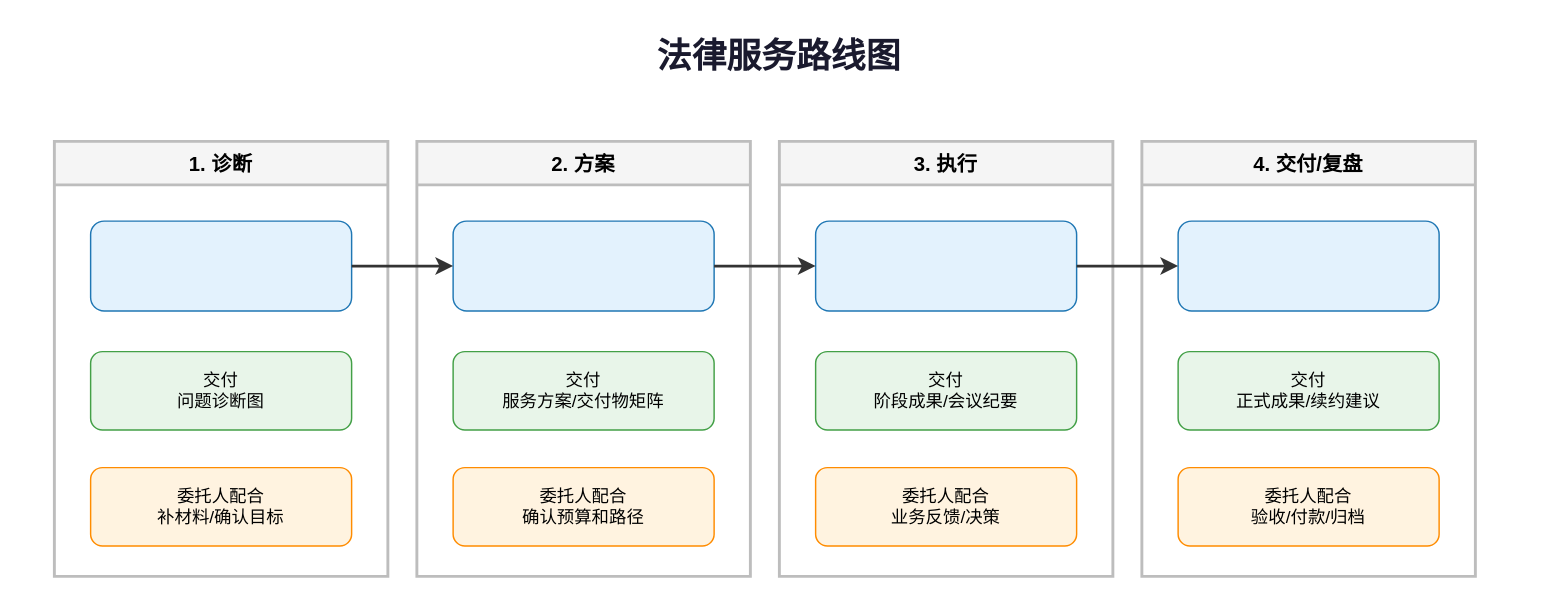
Some shapes in this 1557 by 602 pixel diagram are drawn without their labels. The shapes that lost their labels are listed below. From the top down, each one's centre as x and y in pixels, then its label:
(220,265): 任务 访谈、材料清单、风险初筛
(583,265): 任务 路径设计、报价、范围确认
(945,265): 任务 执行、沟通、阶段复核
(1308,265): 任务 定稿、交付、复盘
